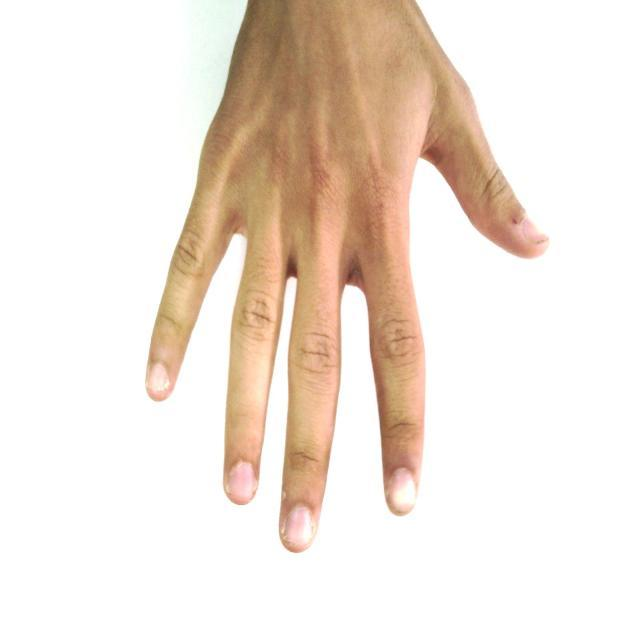Fingernail: (390, 470, 416, 512), (285, 506, 312, 546), (229, 464, 255, 498), (522, 219, 548, 244), (148, 364, 168, 393)
